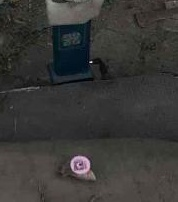text: (60, 145, 99, 189)
